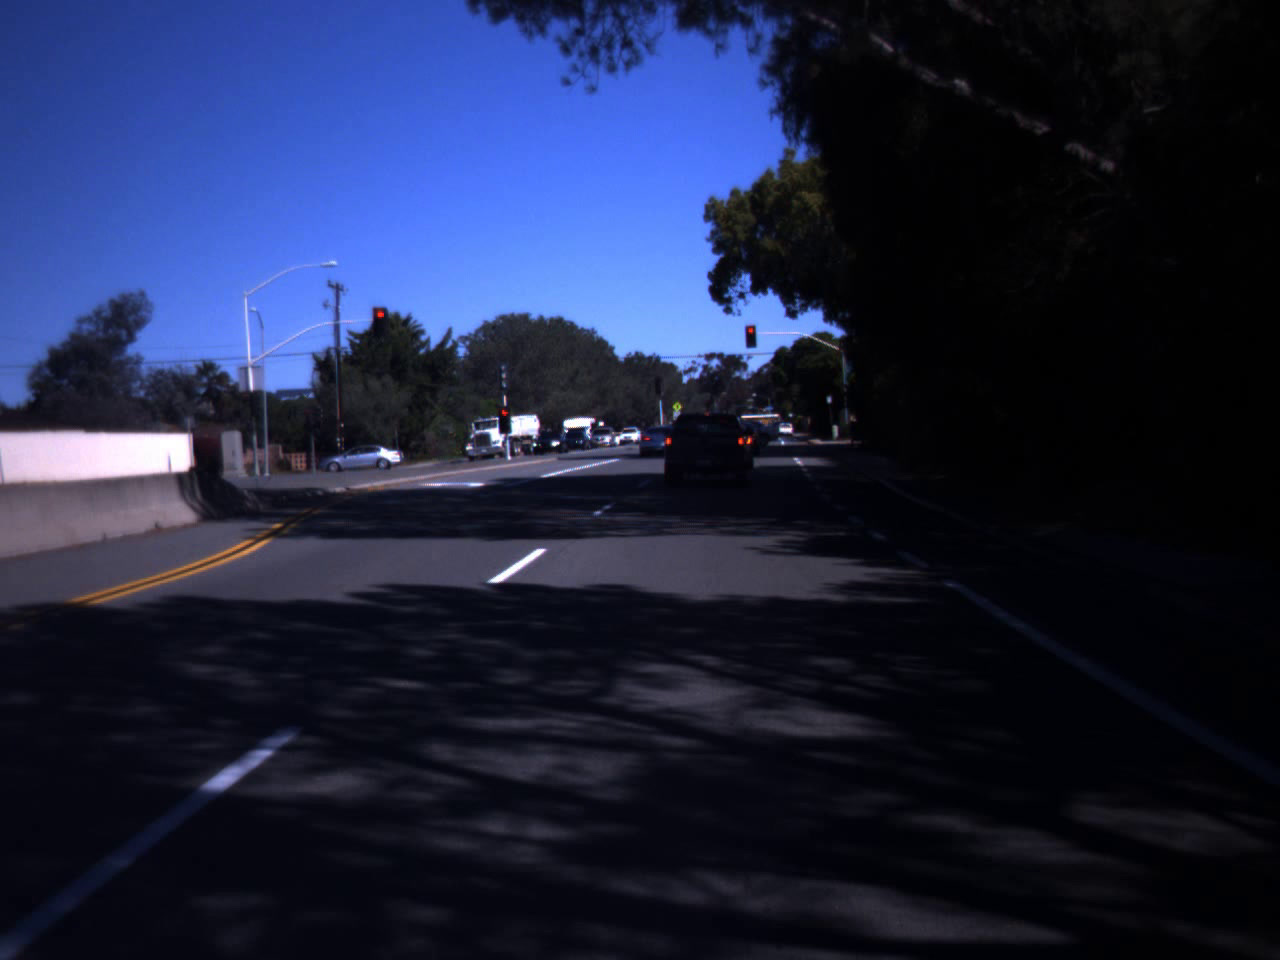stop: (372, 310, 390, 328), (498, 408, 510, 426)
